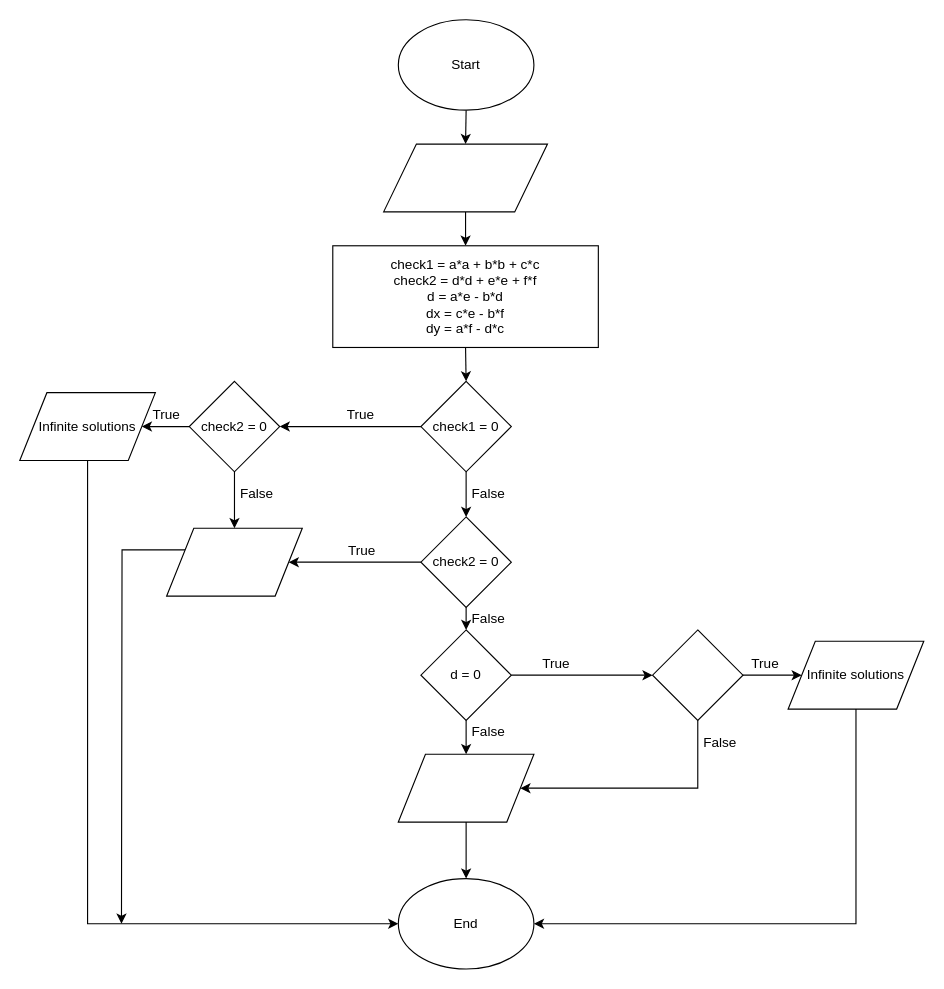
The diagram is 944 pixels wide and 989 high, and some of its shapes have lost their labels. Here are the shapes that lost their labels. From the top down, the centre of each, then its label:
At (x=465, y=177): "Input a, b, c, d, e, f".
At (x=234, y=561): "No solution".
At (x=697, y=674): "dx = 0 and dy = 0".
At (x=465, y=787): "x = dx / d y = dy / d".
